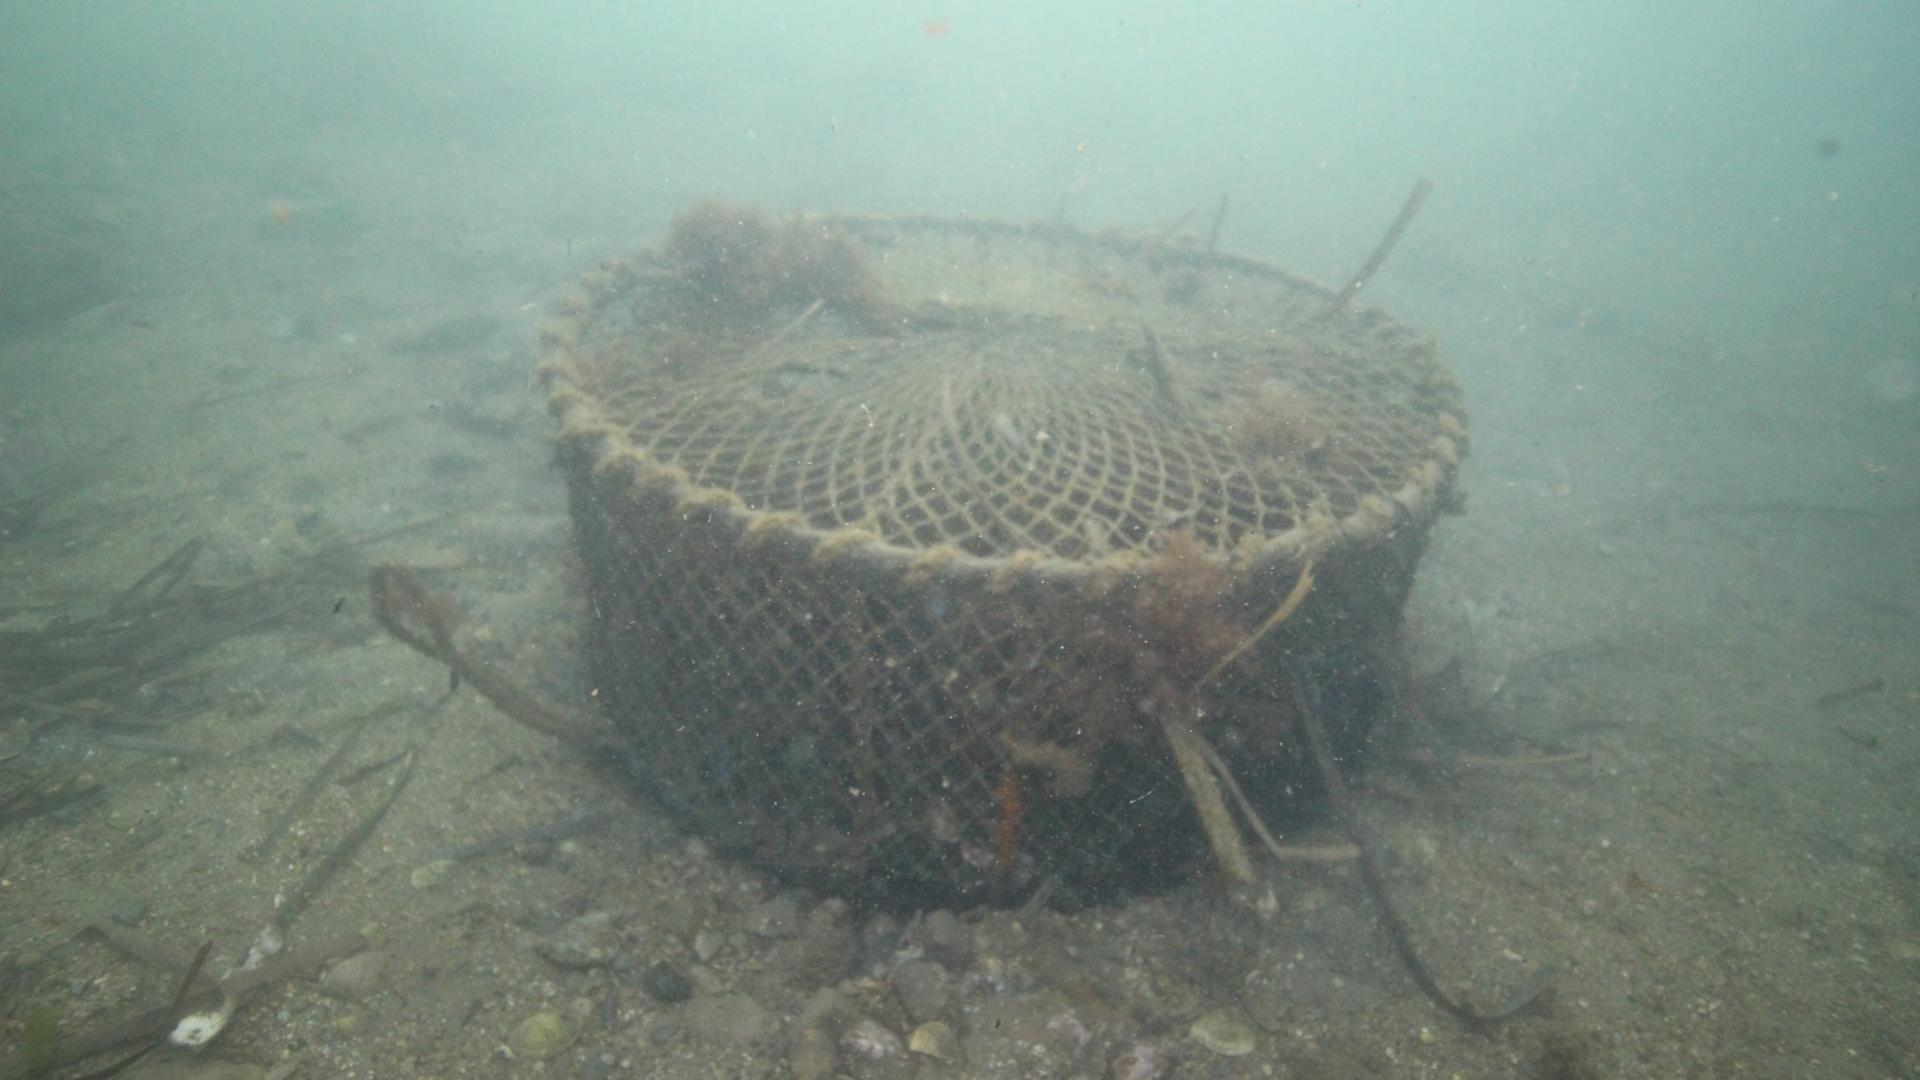circular fish trap: (534, 210, 1472, 906)
rope: (363, 553, 583, 745)
